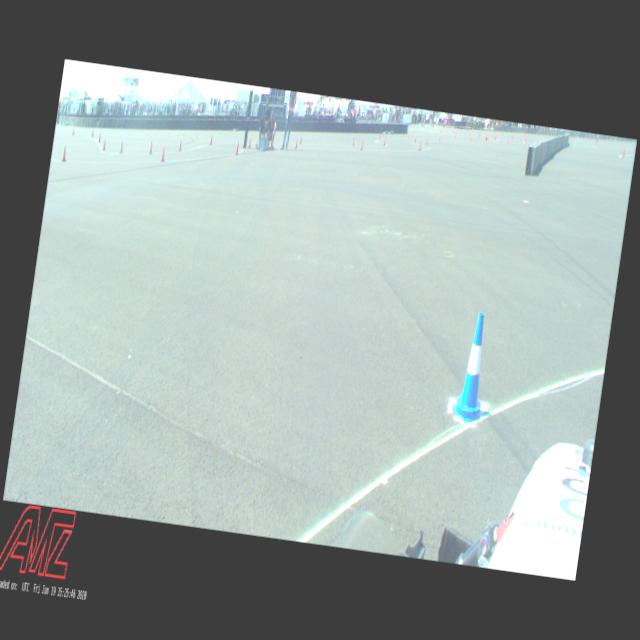blue_cone: (450, 312, 498, 426)
unknown_cone: (62, 146, 68, 162), (161, 148, 166, 162), (120, 141, 124, 153), (150, 142, 154, 154), (236, 142, 240, 154), (248, 136, 252, 148), (103, 139, 107, 150), (179, 140, 182, 151), (418, 142, 422, 150), (98, 134, 102, 142), (210, 135, 213, 145), (360, 140, 363, 150), (383, 136, 386, 146), (352, 137, 355, 146), (425, 138, 428, 147), (296, 138, 298, 148), (300, 136, 302, 144), (507, 137, 509, 144), (634, 144, 636, 151), (92, 130, 94, 137), (73, 128, 75, 135), (622, 150, 624, 157), (379, 133, 381, 140), (414, 136, 416, 143), (439, 135, 441, 142), (525, 138, 527, 144)
